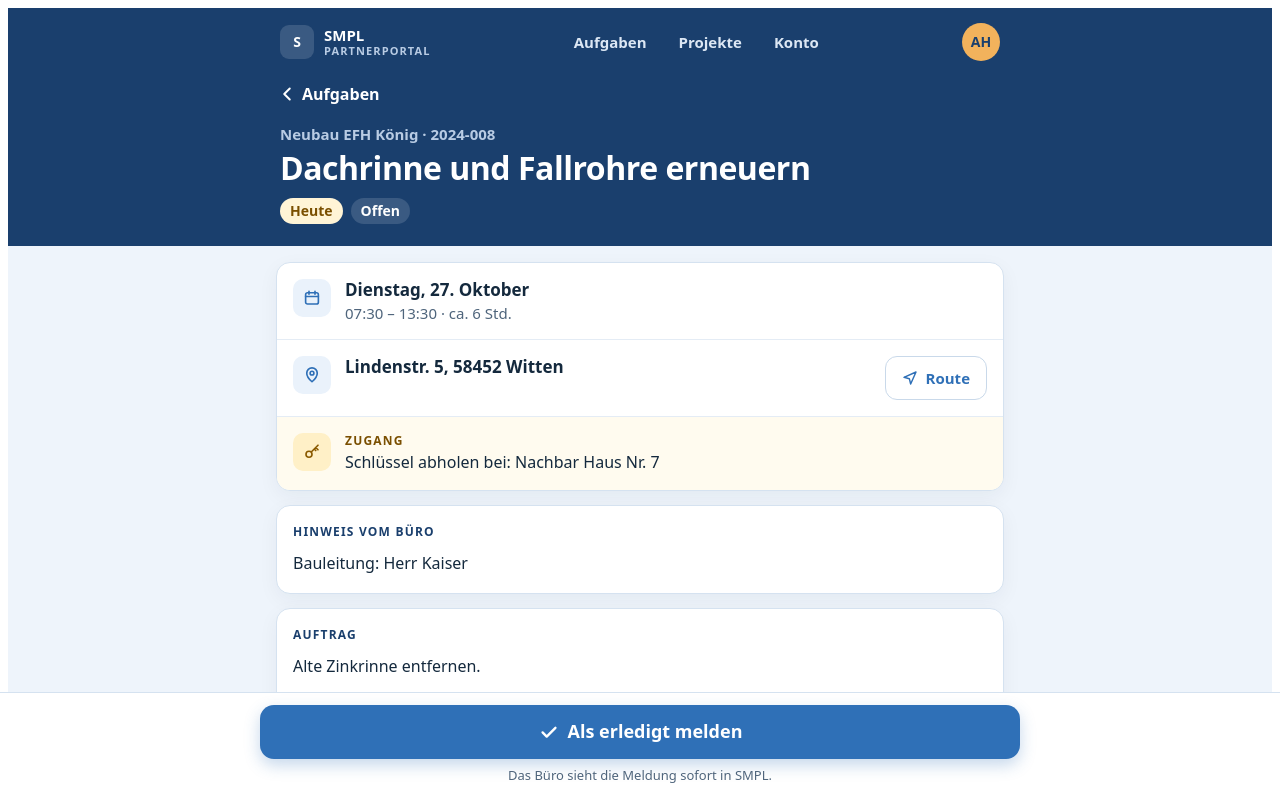
Scenario: PortalApp › goes back to the job list from a job opened by link, without leaving the portal
Expected: the text "Bauleitung: Herr Kaiser" is shown, [293,552,468,574]
Click the 2nd button "Aufgaben" at (331,94), box [274,74,388,114]
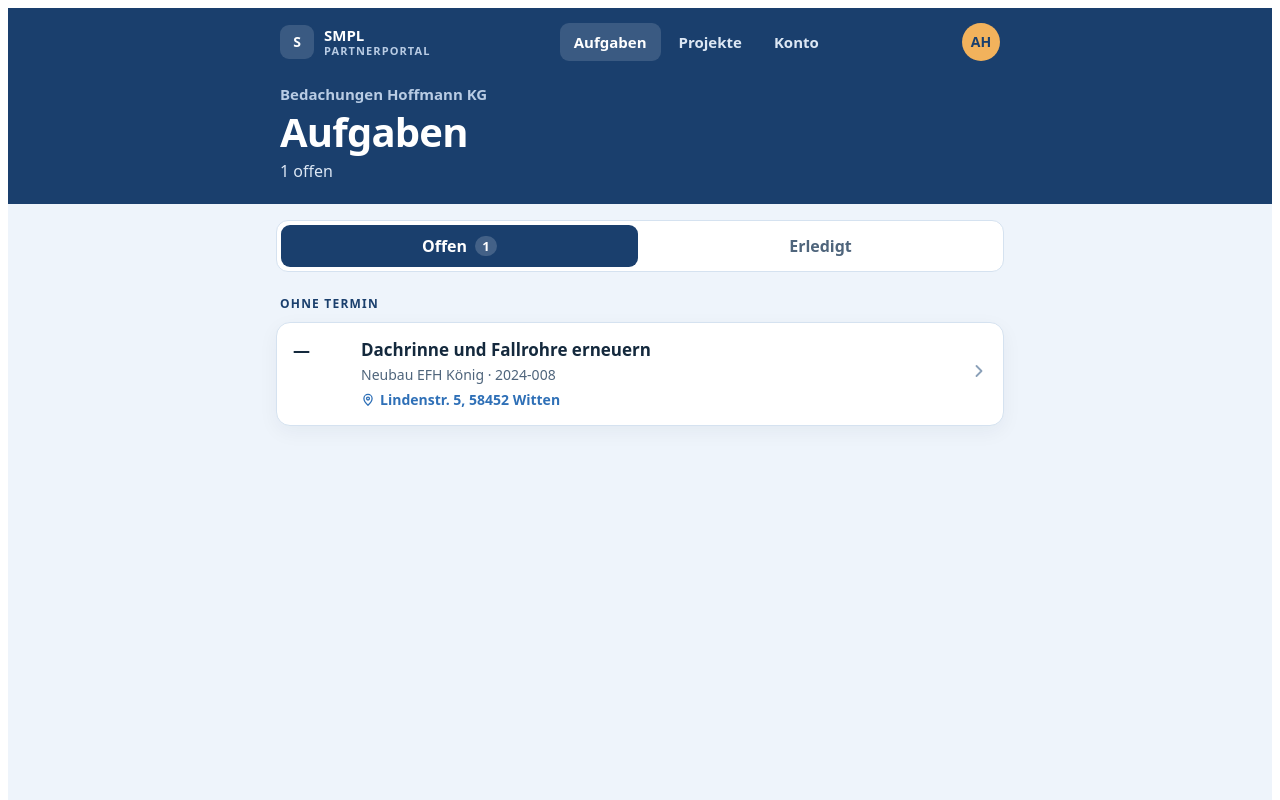
Now the heading "Aufgaben" is shown, box [280,104,468,159]
